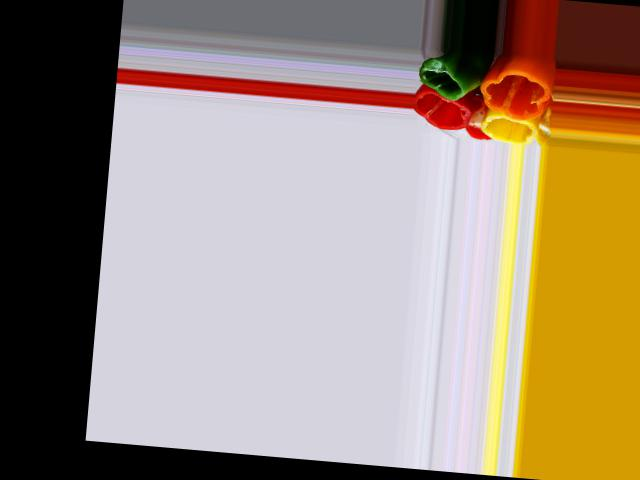bell_pepper: (414, 91, 473, 133)
